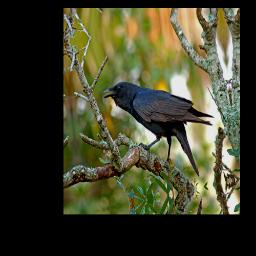Crow: (101, 62, 222, 197)
